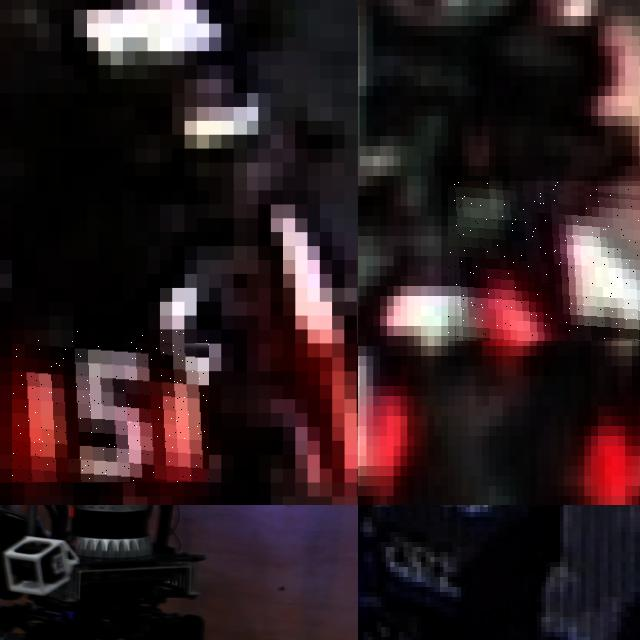R4: (448, 181, 640, 341), (560, 341, 640, 505), (358, 316, 407, 505)
R5: (12, 330, 209, 482)
